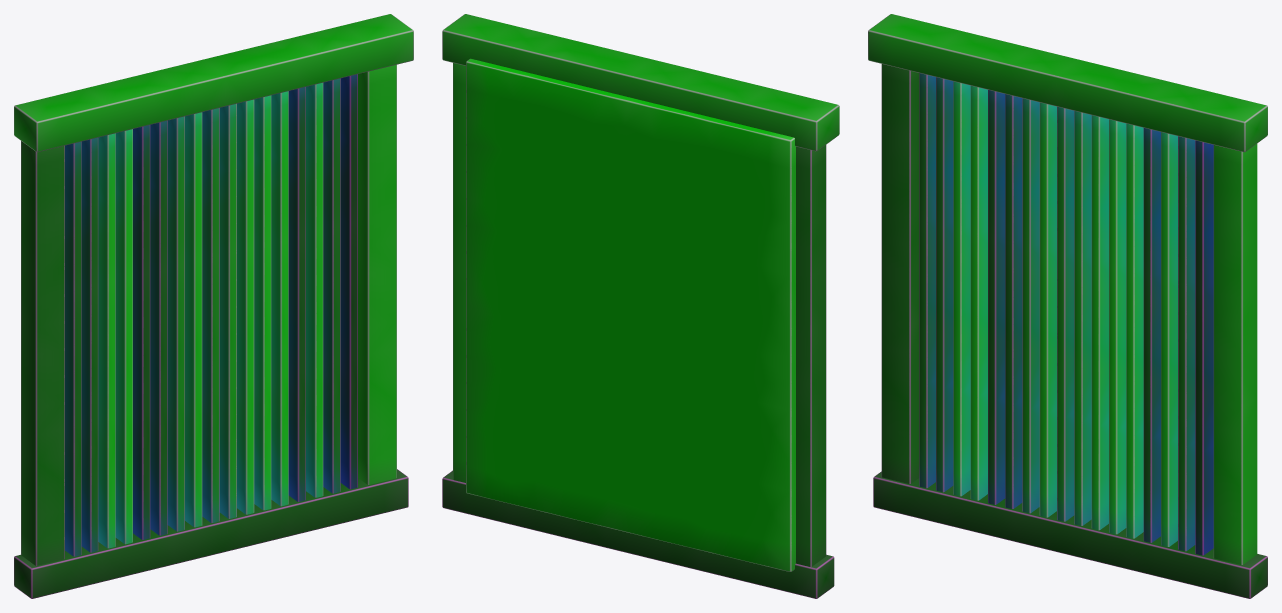
Rendered from window_slope_200_12_right.fbx.
3 renders of one model, left to right at view 1: azimuth 30°, elevation 25°; view 2: azimuth 150°, elevation 25°; view 3: azimuth 330°, elevation 25°, orthographic.
Parts seen in each view (by area): view 1: window_slope_200_12_right; view 2: window_slope_200_12_right; view 3: window_slope_200_12_right.
Boxes of the visible parts, x1=… form: window_slope_200_12_right: x1=14, y1=14, x2=413, y2=598; window_slope_200_12_right: x1=442, y1=14, x2=839, y2=598; window_slope_200_12_right: x1=868, y1=14, x2=1267, y2=598.
Size of the model in its own units: 1.31 by 1.6 by 0.1655.
